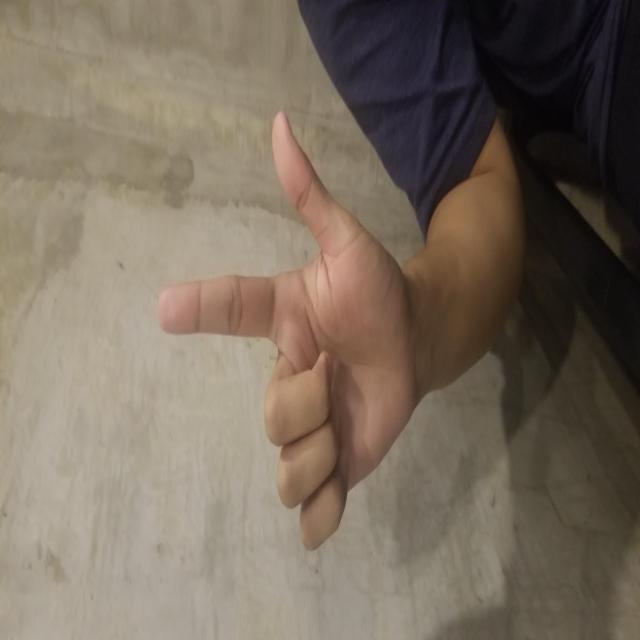L: (91, 158, 527, 418)
